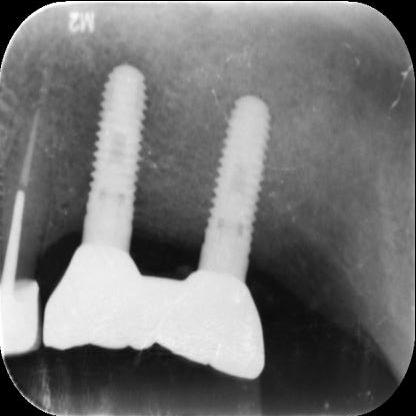Bego: (192, 81, 276, 288), (75, 53, 155, 259)
